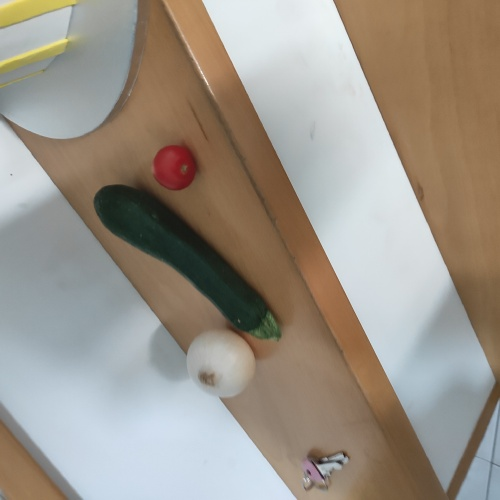cipolla: (193, 331, 253, 396)
pomodoro: (150, 141, 208, 194)
zucchine: (98, 188, 274, 336)
